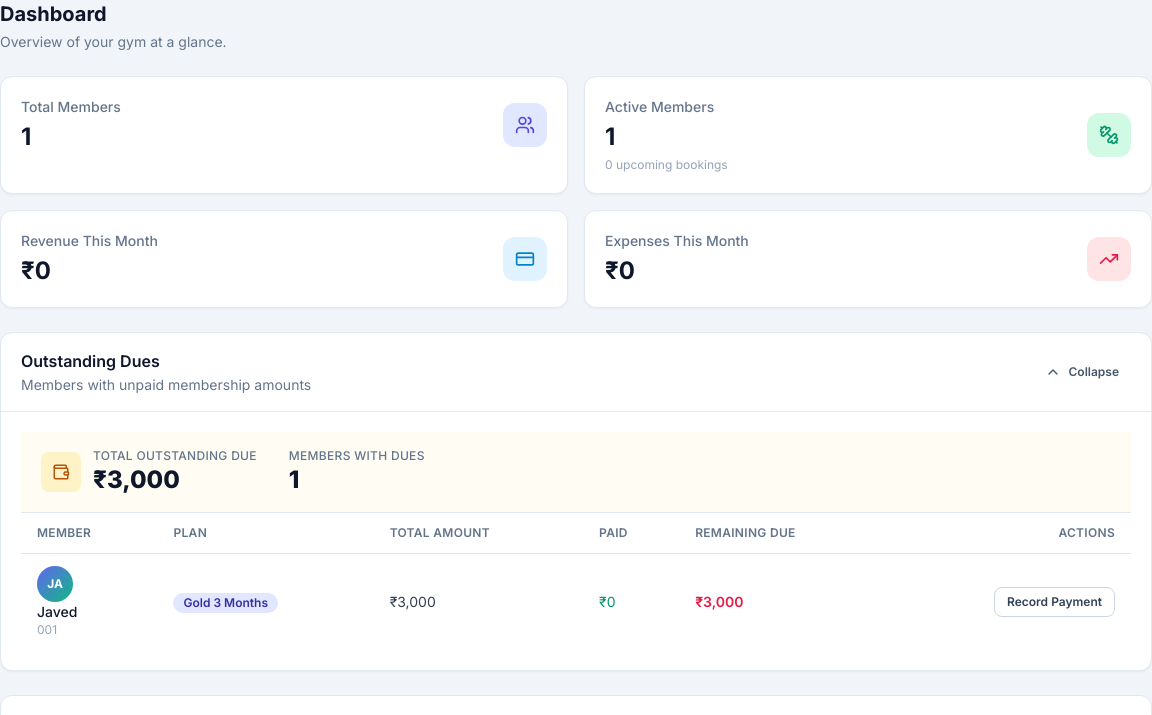
Test: Dashboard payment allocation › tells the operator the payment is allocated only to the chosen period
Click the button "Record Payment": (1054, 602) [994,587,1115,617]
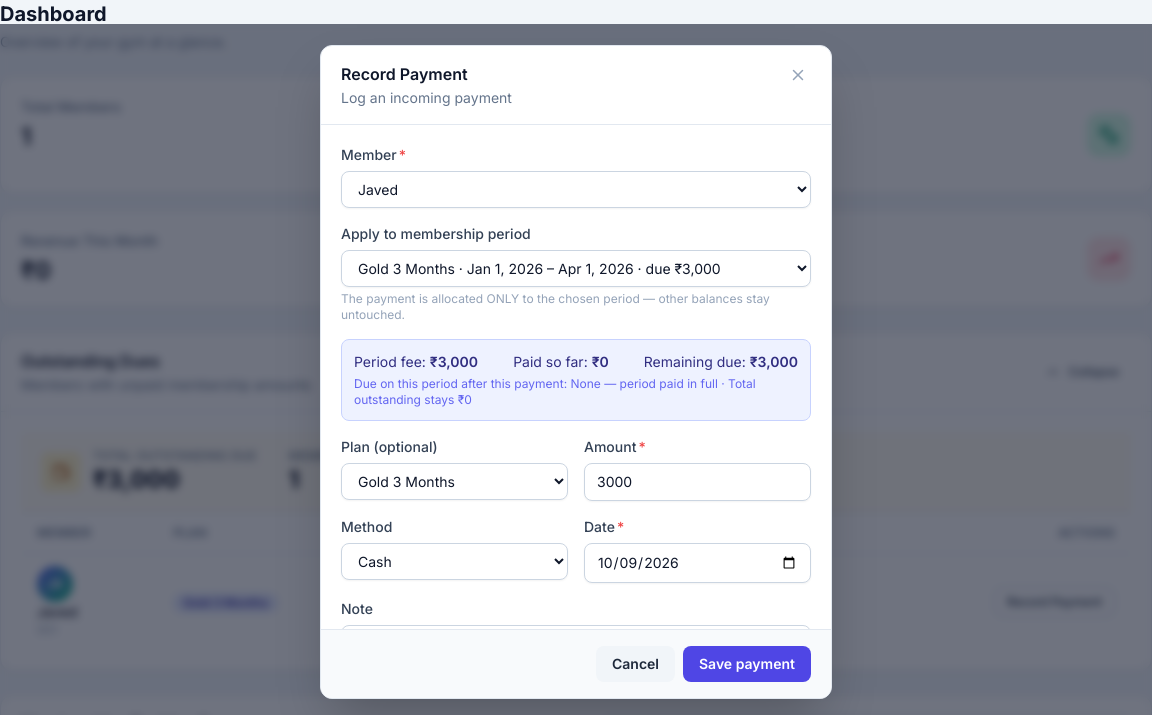
Check: the text "allocated ONLY to the chosen period" is shown, box [341,291,770,322]
